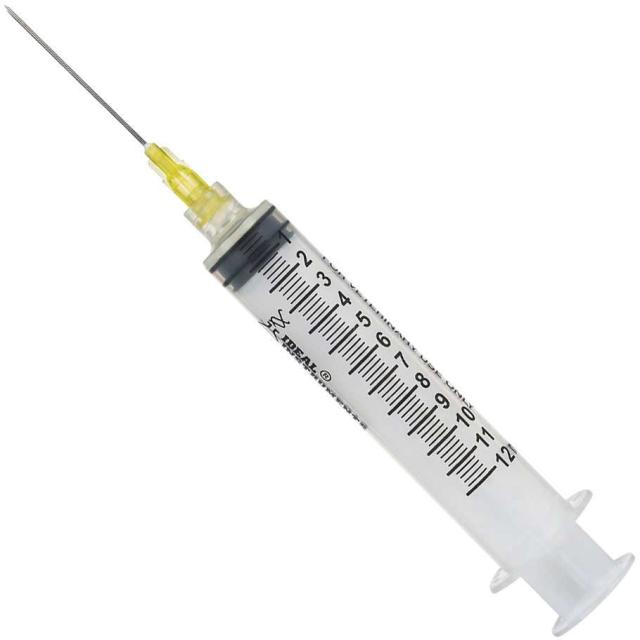syringe: (4, 4, 634, 636)
